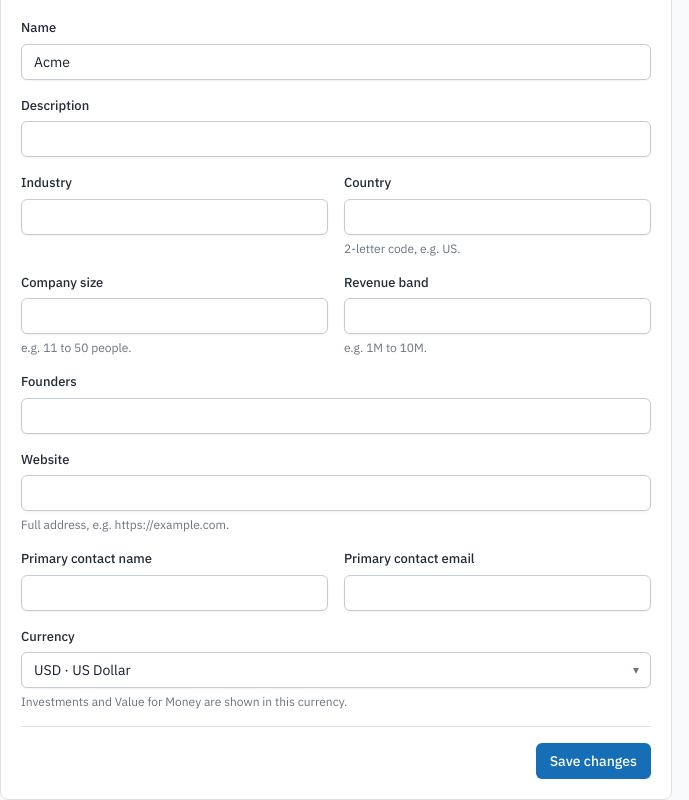
Test: OrganisationSettings › shows the backend message when saving fails
The width and height of the screenshot is (689, 800).
(page scrolled)
Click the button "Save changes": (593, 761) x1=536 y1=743 x2=651 y2=779
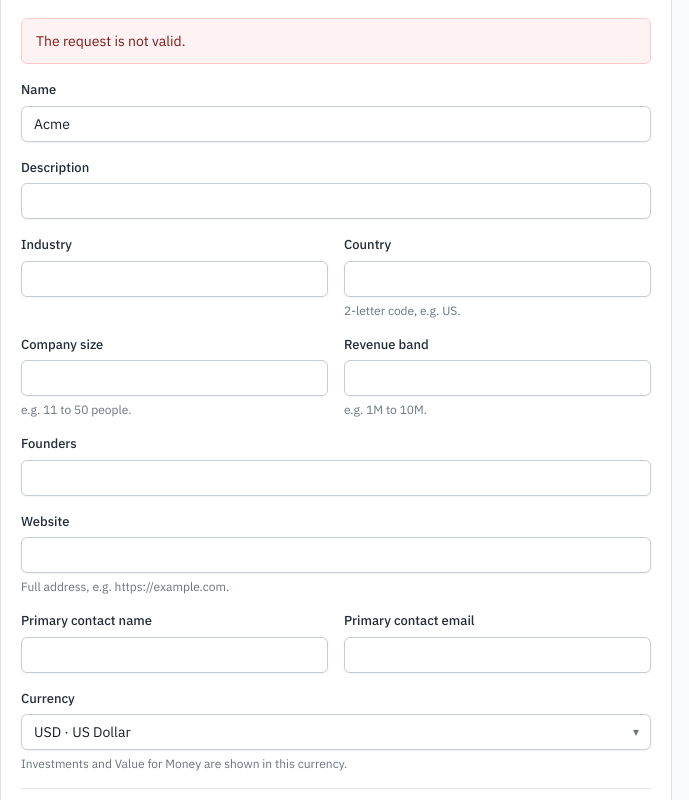
Now the message reads "The request is not valid.", box x1=36 y1=32 x2=186 y2=50
